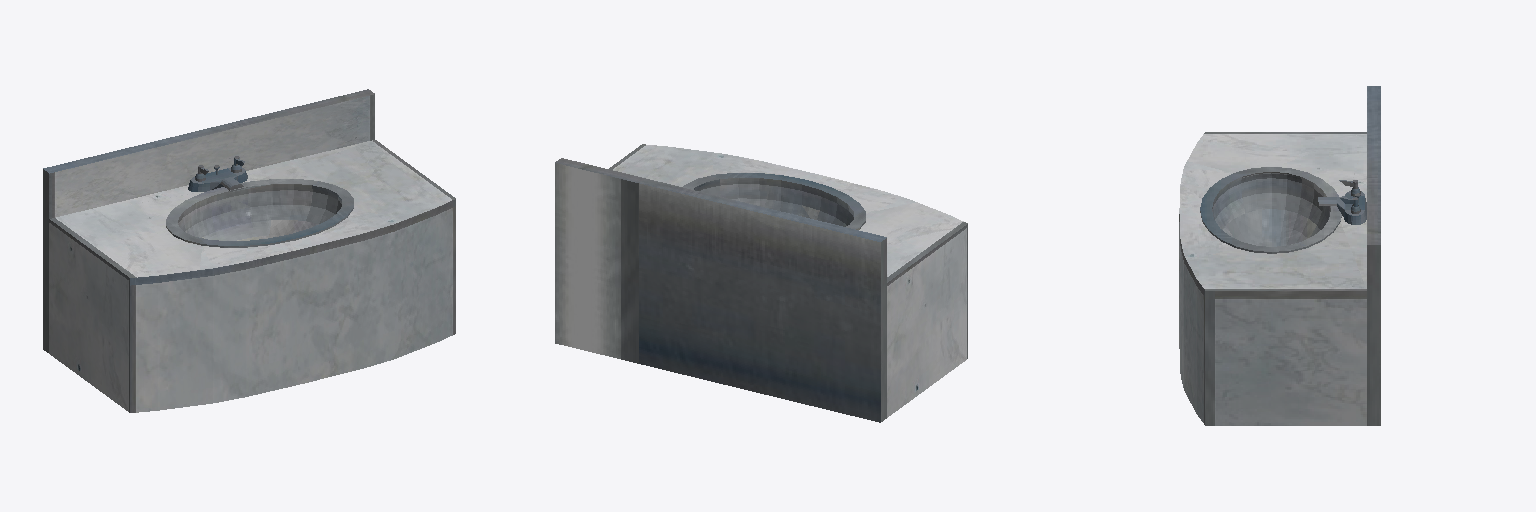
The picture shows the model from 3 angles: view 1: azimuth 30°, elevation 25°; view 2: azimuth 150°, elevation 25°; view 3: azimuth 270°, elevation 25°; orthographic projection.
Parts seen in each view (by area): view 1: barber_sink.obj; view 2: barber_sink.obj; view 3: barber_sink.obj.
Boxes of the visible parts, box(x1,y1,x2,y2) form: barber_sink.obj: box(43, 89, 455, 412); barber_sink.obj: box(555, 144, 967, 422); barber_sink.obj: box(1179, 86, 1380, 425).
Bounding box in the file's own units: 9.68 × 5.12 × 5.18.
1 materials, 1 textured.